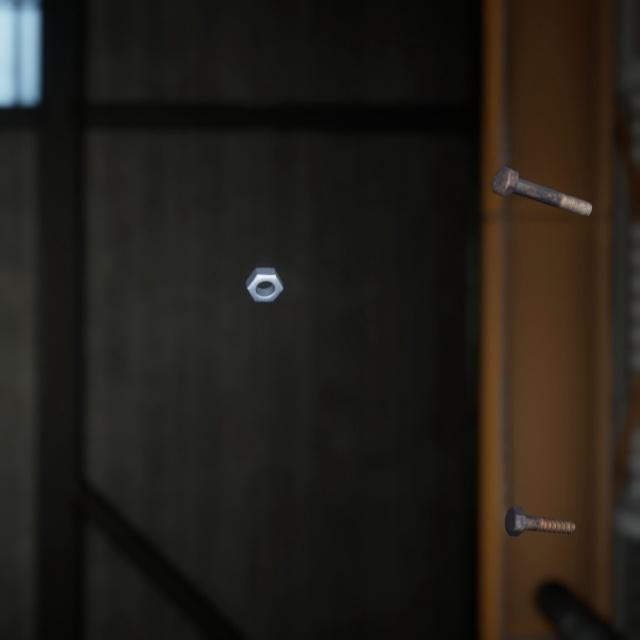bolt: (487, 146, 596, 206), (500, 479, 580, 518)
nut: (241, 245, 288, 289)
